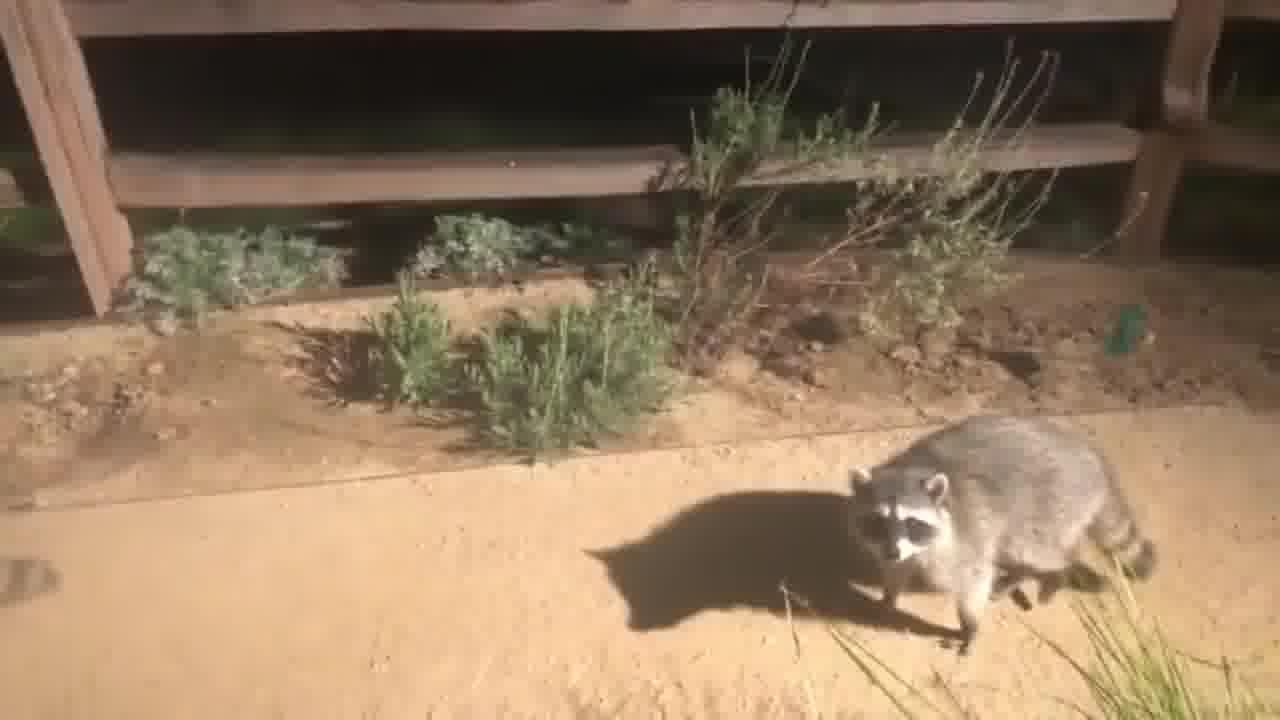raccoon: (836, 395, 1166, 666), (0, 538, 74, 620)
